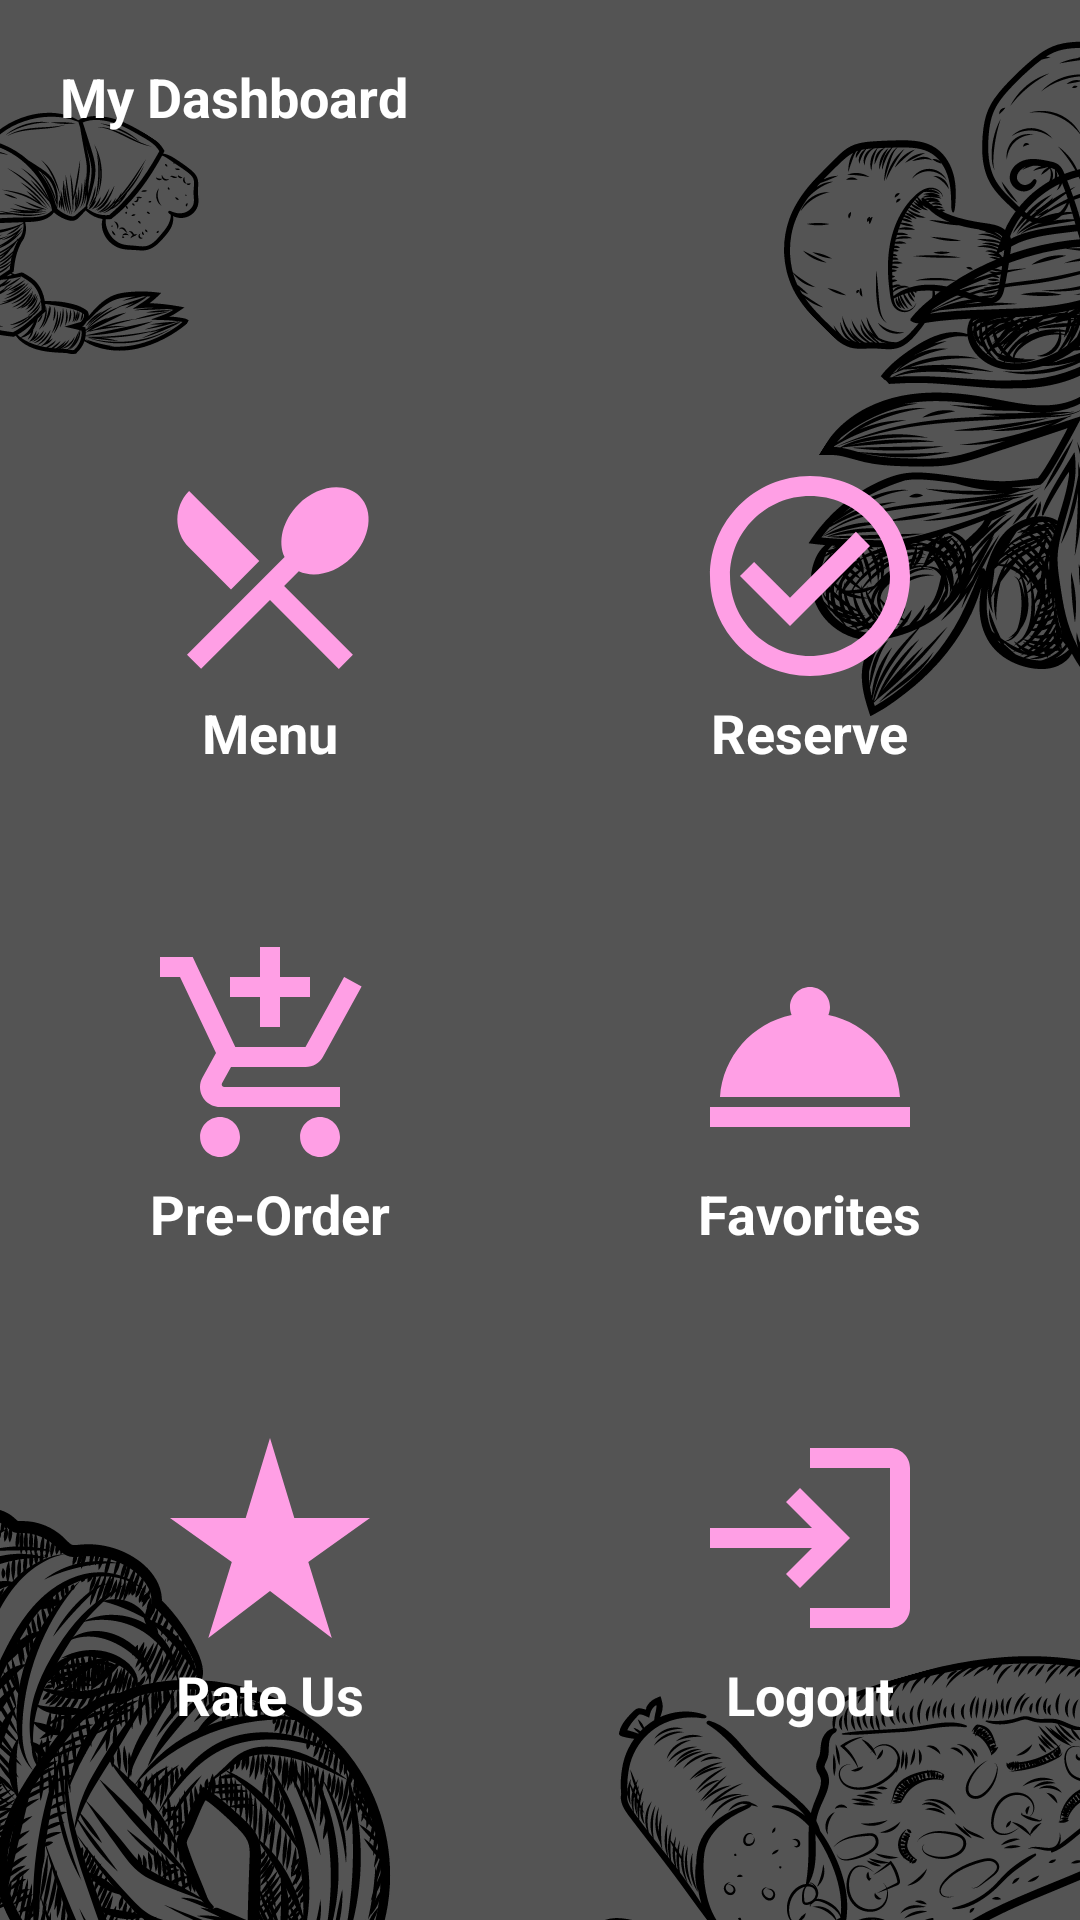

Icon click points for this 1080×1920 phone screenshot, format (x=x, y=y):
add shopping cart: (x=261, y=1052)
login: (x=810, y=1538)
resto: (x=273, y=578)
service: (x=810, y=1057)
